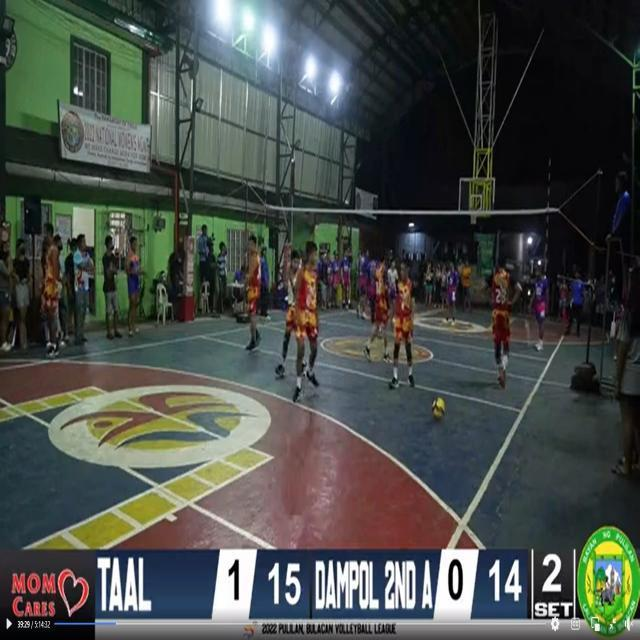volleyball: (432, 397, 446, 418)
